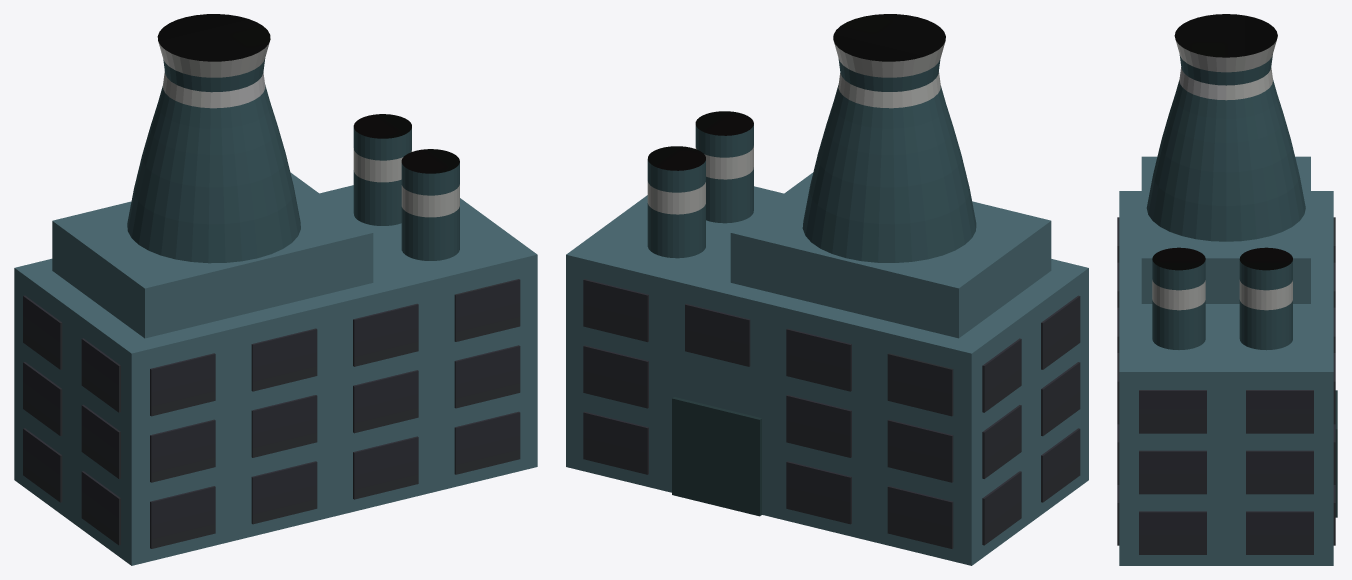
The model's file is factory upgraded 2.fbx.
The picture shows the model from 3 angles, left to right: view 1: azimuth 30°, elevation 25°; view 2: azimuth 150°, elevation 25°; view 3: azimuth 270°, elevation 25°; orthographic projection. The views are drawn at different scales.
Parts seen in each view (by area): view 1: Cylinder; view 2: Cylinder; view 3: Cylinder.
Boxes of the visible parts, x1,y1,x2,y2 form: Cylinder: [14, 14, 537, 565]; Cylinder: [566, 14, 1088, 565]; Cylinder: [1117, 14, 1337, 565].
Bounding box in the file's own units: 1616 × 1699 × 823.
Materials: 1 (1 with a texture image).
